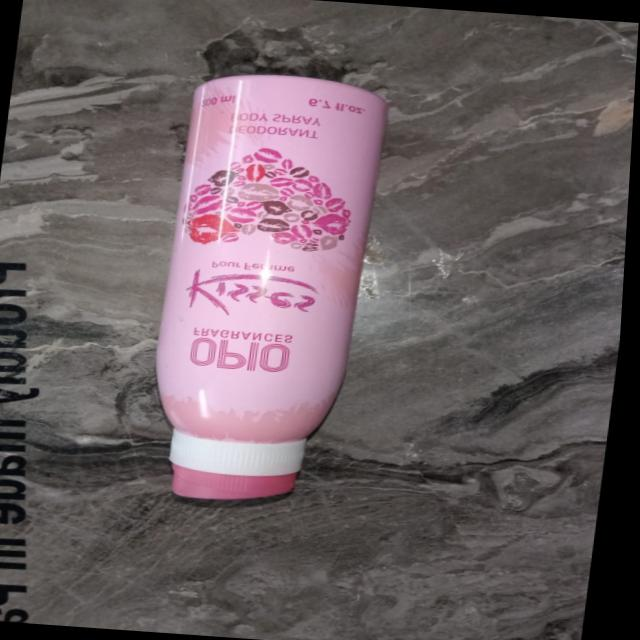perfume: (115, 55, 409, 531)
